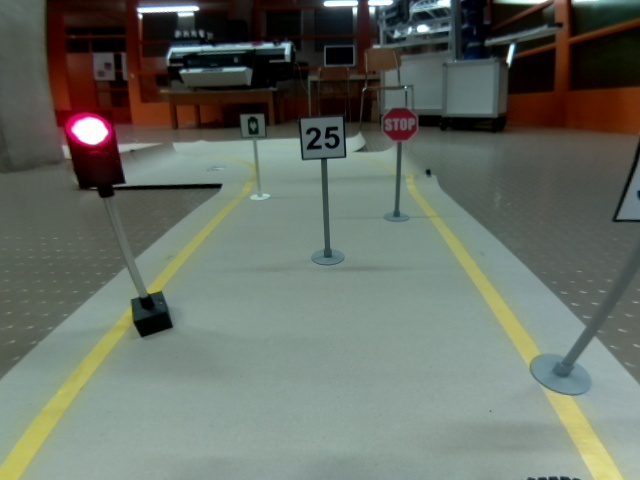battery: (238, 112, 266, 139)
speed25: (298, 115, 345, 160)
stop: (381, 107, 417, 142)
trafficLightRed: (61, 109, 127, 190)
